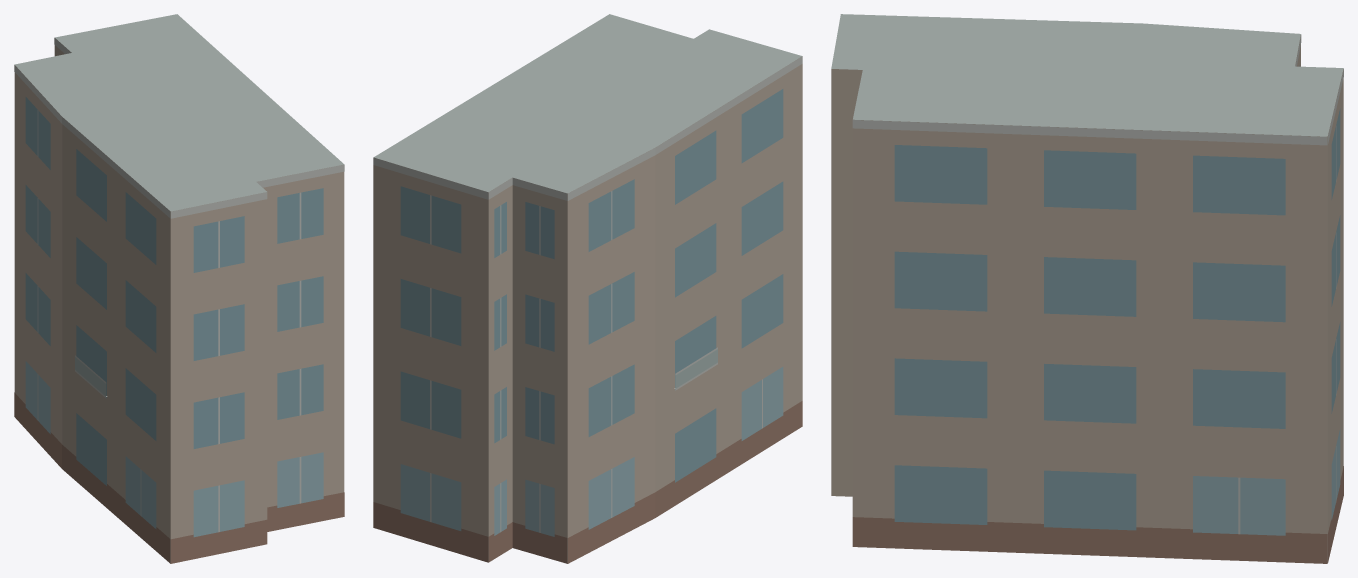
Rendered from survey-upis-33024697.glb.
3 renders of one model, left to right at view 1: azimuth 30°, elevation 25°; view 2: azimuth 150°, elevation 25°; view 3: azimuth 270°, elevation 25°, orthographic. The views are drawn at different scales.
Visible parts, largest first — view 1: survey-upis-33024697.tmp; view 2: survey-upis-33024697.tmp; view 3: survey-upis-33024697.tmp.
Part boxes in pixels (left/top/right/bottom): survey-upis-33024697.tmp: left=14, top=14, right=344, bottom=563; survey-upis-33024697.tmp: left=373, top=14, right=802, bottom=563; survey-upis-33024697.tmp: left=831, top=14, right=1343, bottom=563.
Size of the model in its own units: 7.37 by 11.95 by 13.01.
